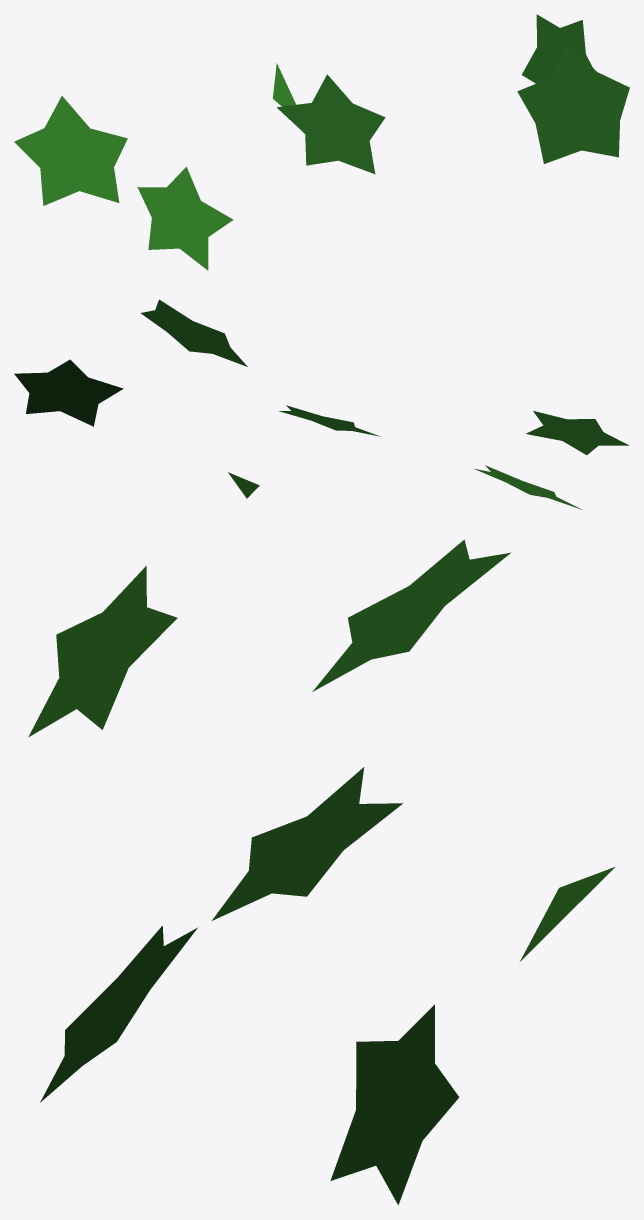
3 views of the same model, one above another, from view 1: azimuth 30°, elevation 25°; view 2: azimuth 150°, elevation 25°; view 3: azimuth 270°, elevation 25° (orthographic). The views are drawn at different scales.
Parts seen in each view (by area): view 1: r27c0_l10; view 2: r27c0_l10; view 3: r27c0_l10.
Part boxes in pixels (box(x1,y1,x2,y2)): r27c0_l10: box(14, 14, 629, 270); r27c0_l10: box(14, 299, 629, 509); r27c0_l10: box(28, 539, 614, 1205).
Size of the model in its own units: 1.71 by 0.3326 by 0.7971.
